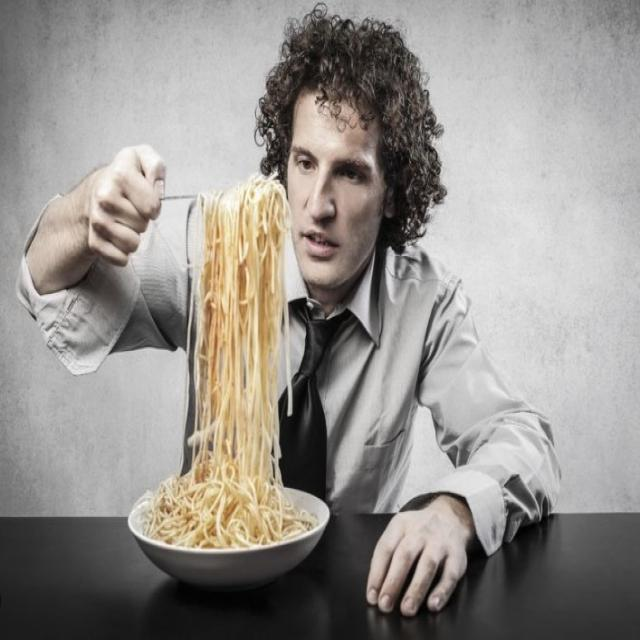eating-person: (20, 5, 571, 625)
